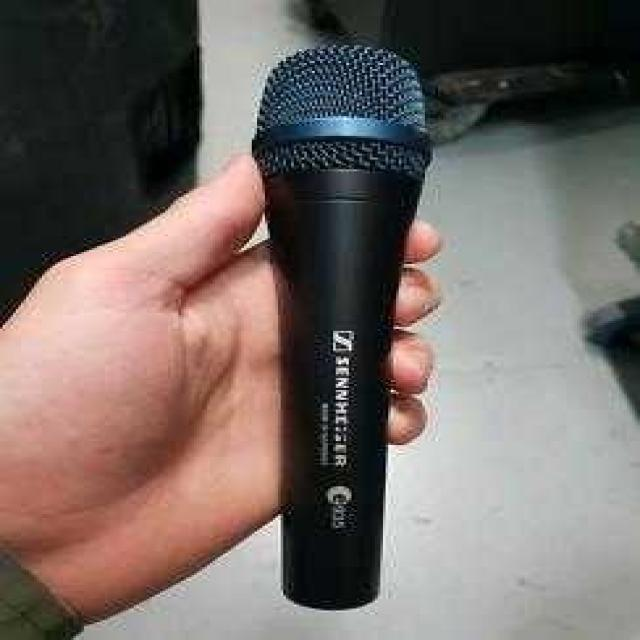microphone: (247, 42, 439, 606), (251, 44, 430, 183)
